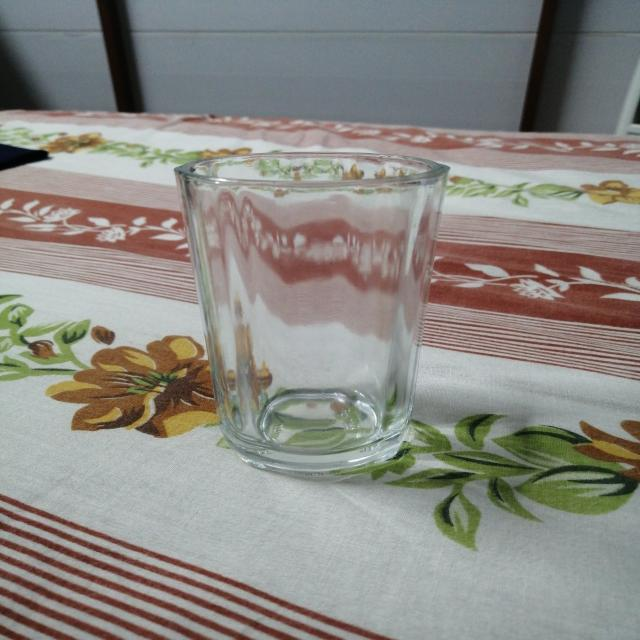Glass: (170, 147, 453, 480)
